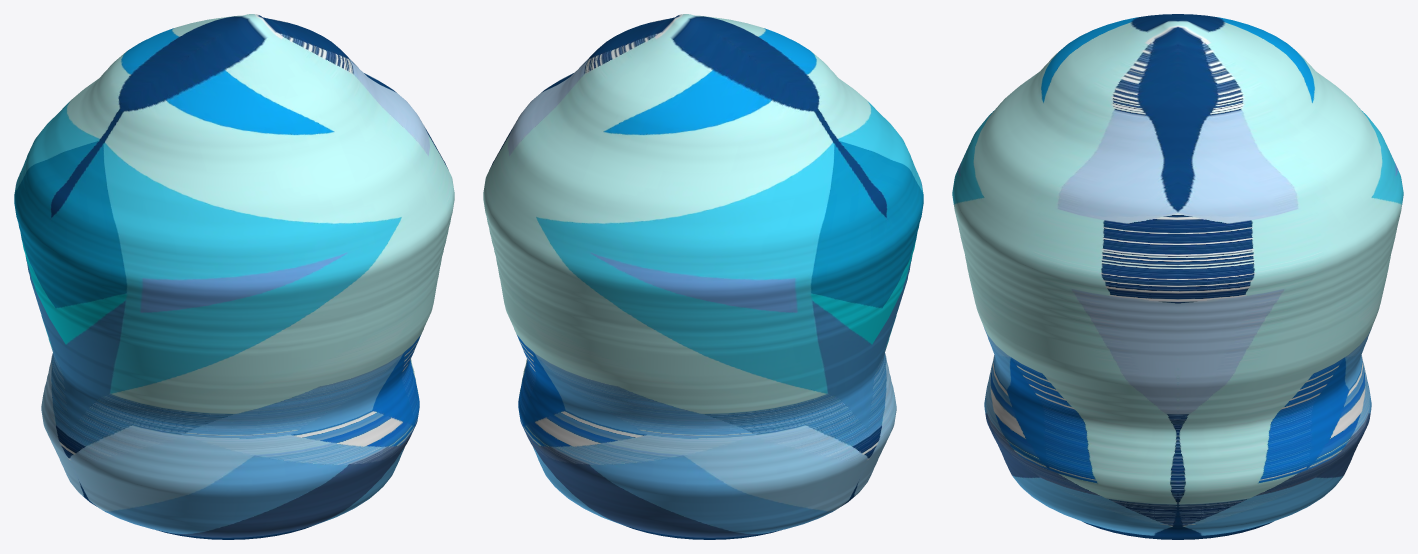
Rendered from faceted_ice_boulder.glb.
The picture shows the model from 3 angles, left to right: view 1: azimuth 30°, elevation 25°; view 2: azimuth 150°, elevation 25°; view 3: azimuth 270°, elevation 25°; orthographic projection. The views are drawn at different scales.
Visible parts, largest first — view 1: faceted_ice_boulder; view 2: faceted_ice_boulder; view 3: faceted_ice_boulder.
Part boxes in pixels (x1=…): faceted_ice_boulder: x1=14, y1=14, x2=454, y2=539; faceted_ice_boulder: x1=483, y1=14, x2=923, y2=539; faceted_ice_boulder: x1=952, y1=14, x2=1403, y2=539.
Size of the model in its own units: 0.9947 by 1.16 by 0.9947.
1 material, 1 textured.
